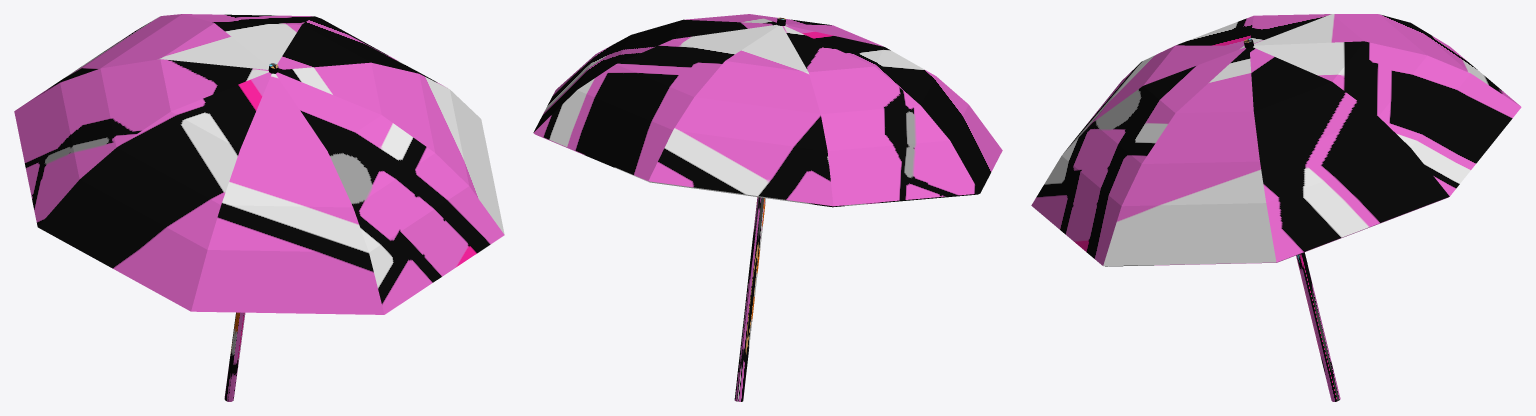
3 views of the same model, side by side, from view 1: azimuth 30°, elevation 25°; view 2: azimuth 150°, elevation 25°; view 3: azimuth 270°, elevation 25° (orthographic). The views are drawn at different scales.
Parts seen in each view (by area): view 1: Umbrella; view 2: Umbrella; view 3: Umbrella.
Part boxes in pixels (x1,y1,x2,y2): Umbrella: [14, 14, 504, 401]; Umbrella: [533, 14, 1002, 401]; Umbrella: [1031, 14, 1521, 401].
Size of the model in its own units: 1.61 by 1.28 by 1.57.
